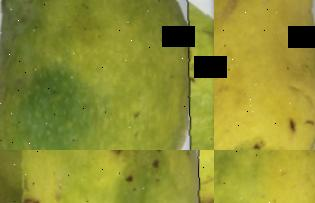PartiallyRipe: (0, 0, 214, 150), (0, 150, 214, 203), (214, 150, 315, 203)
Ripe: (214, 0, 315, 150)
